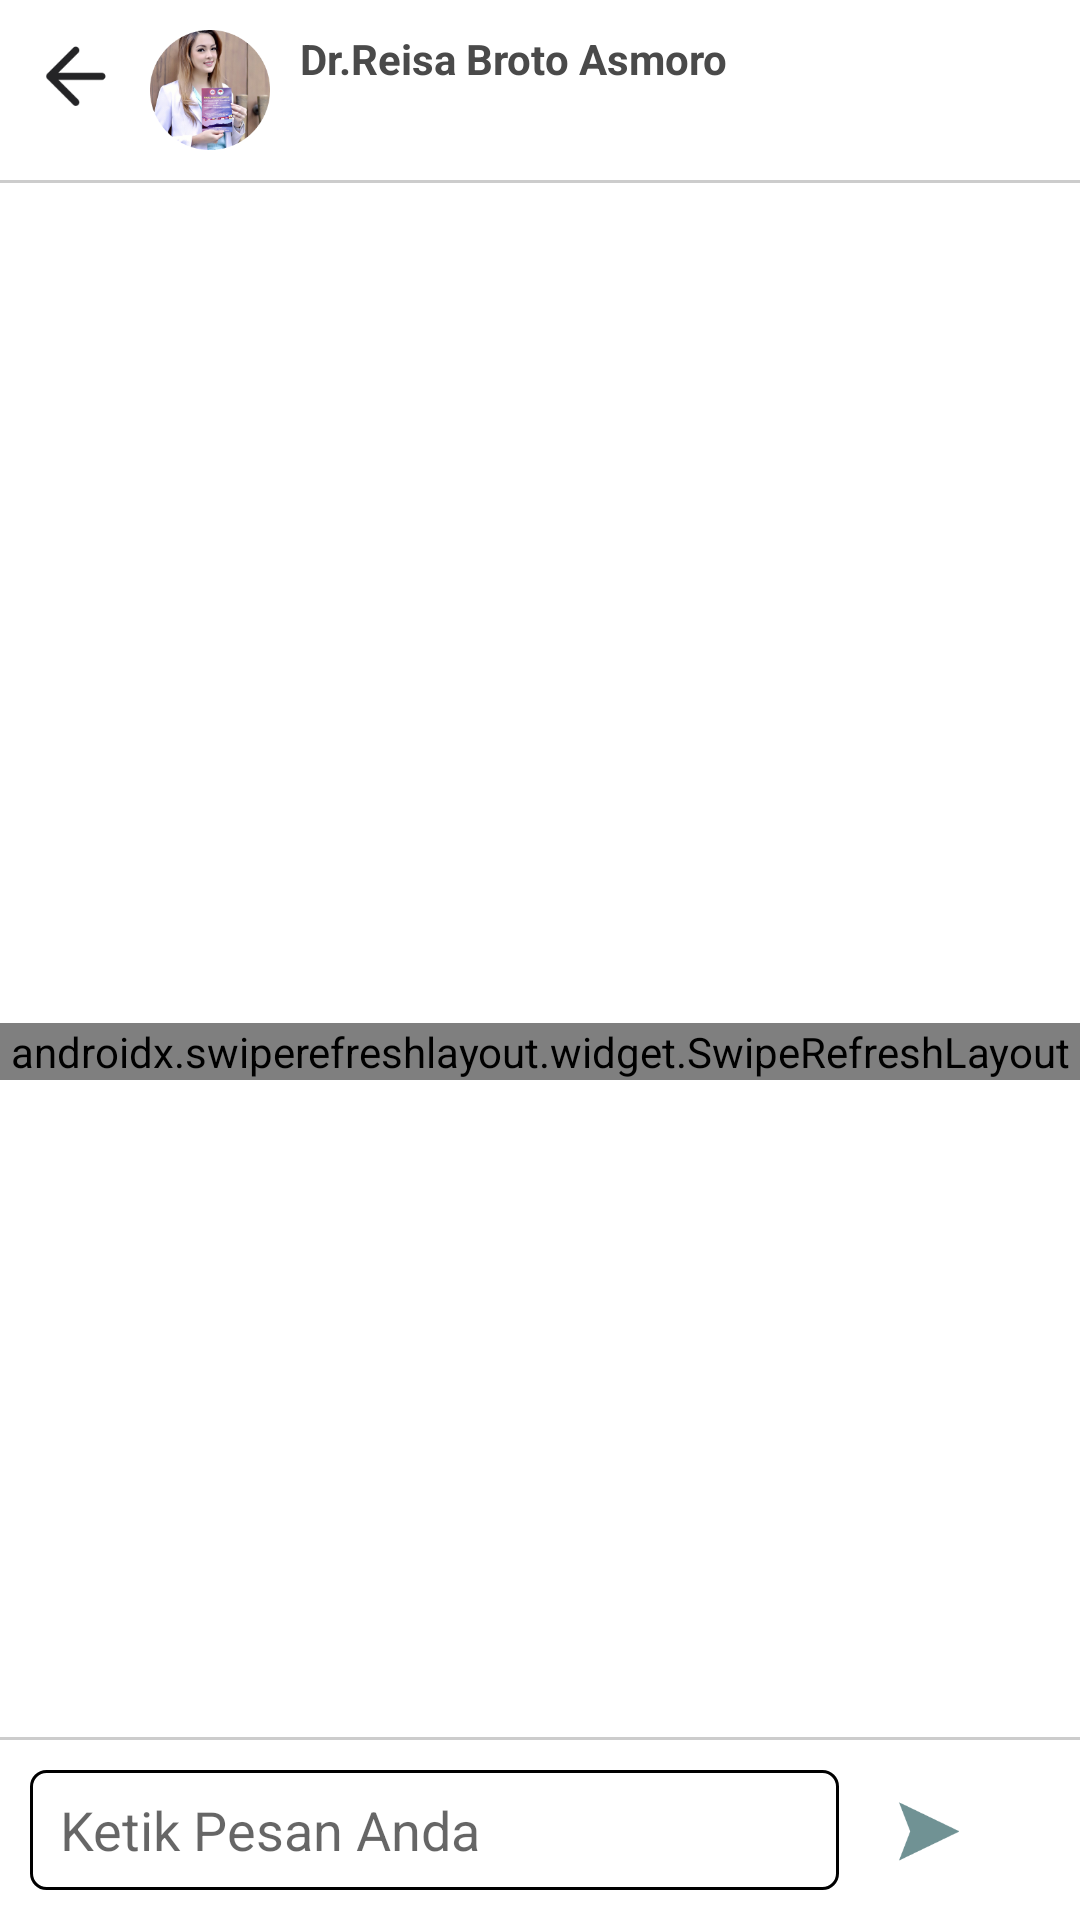

Icons on this 1080x1920 Android screen, each with the point to tap as point (x, y):
back: point (76, 76)
doctor: point (210, 90)
sent: point (929, 1831)
